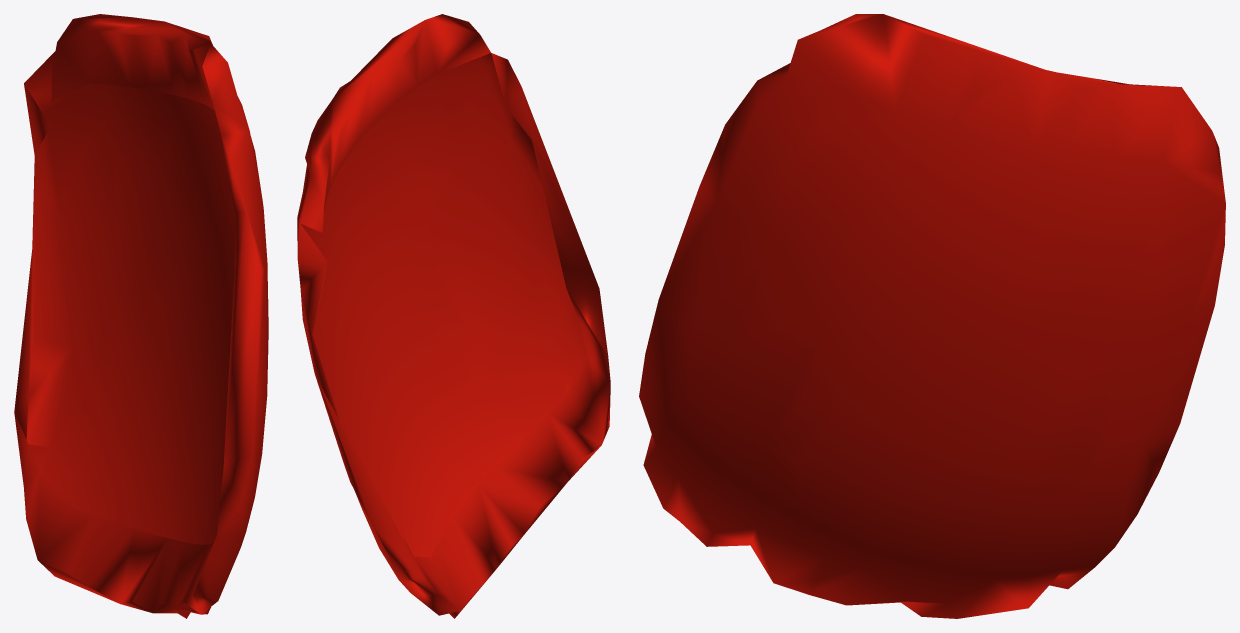
Rendered from Nao6_Left_Arm_Forearm_Orange.obj.
3 renders of one model, left to right at view 1: azimuth 30°, elevation 25°; view 2: azimuth 150°, elevation 25°; view 3: azimuth 270°, elevation 25°, orthographic. The views are drawn at different scales.
Parts seen in each view (by area): view 1: Nao6_Left_Arm_Forarm_Orange; view 2: Nao6_Left_Arm_Forarm_Orange; view 3: Nao6_Left_Arm_Forarm_Orange.
Part boxes in pixels (x1,y1,x2,y2): Nao6_Left_Arm_Forarm_Orange: (14, 14, 268, 618); Nao6_Left_Arm_Forarm_Orange: (297, 14, 610, 618); Nao6_Left_Arm_Forarm_Orange: (639, 14, 1225, 618).
Bounding box in the file's own units: 0.1171 × 0.4142 × 0.34.
